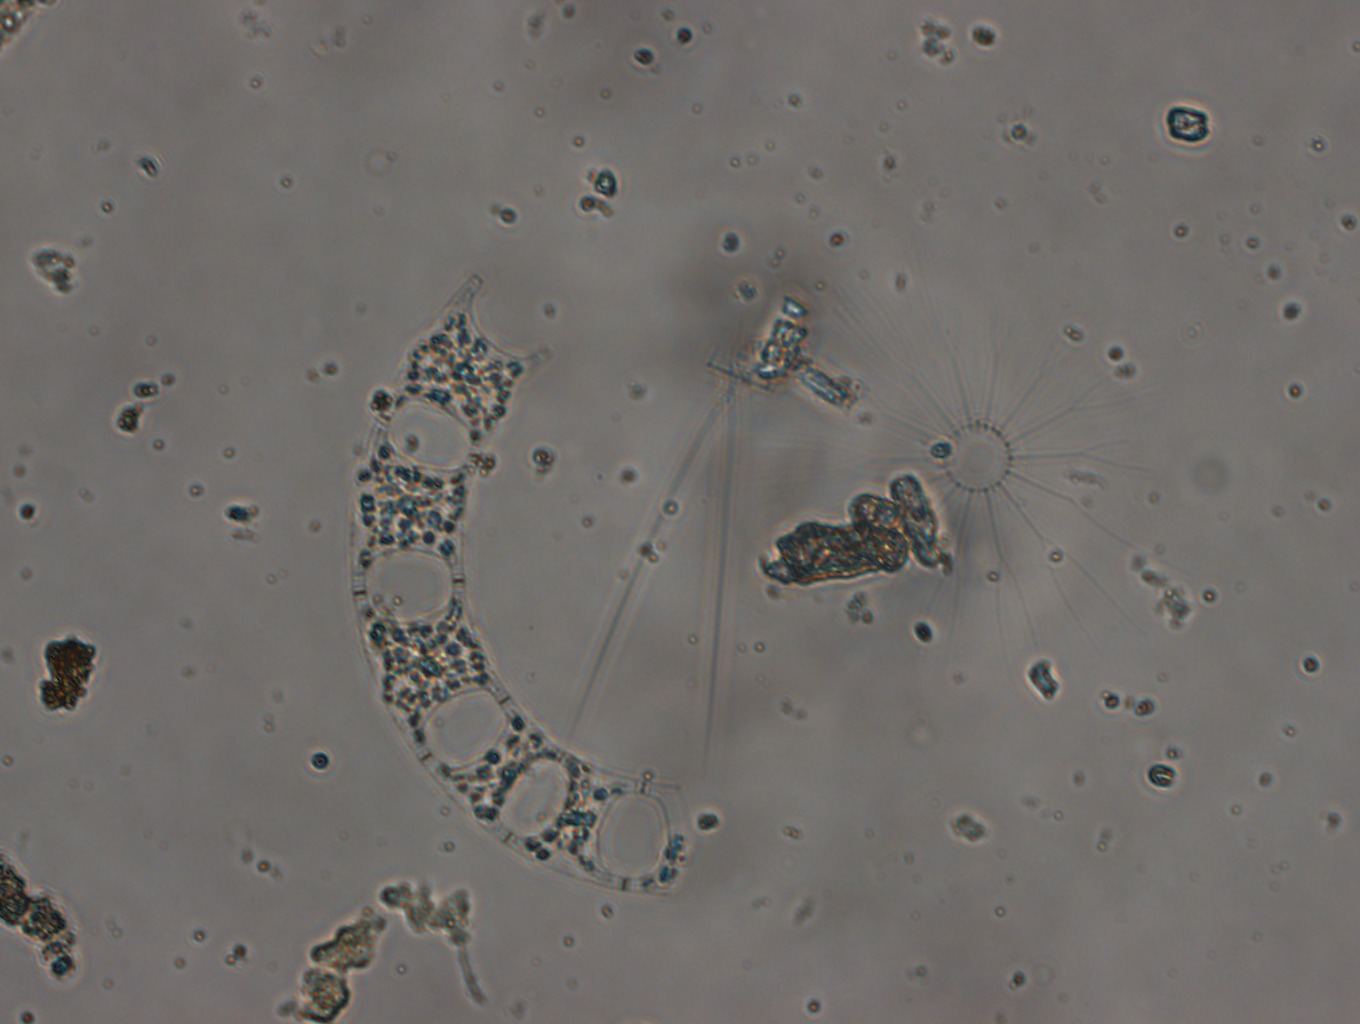bacteriastrum: (822, 291, 1144, 643)
chaetoceros: (556, 278, 816, 758)
eucampia: (347, 274, 707, 895)
